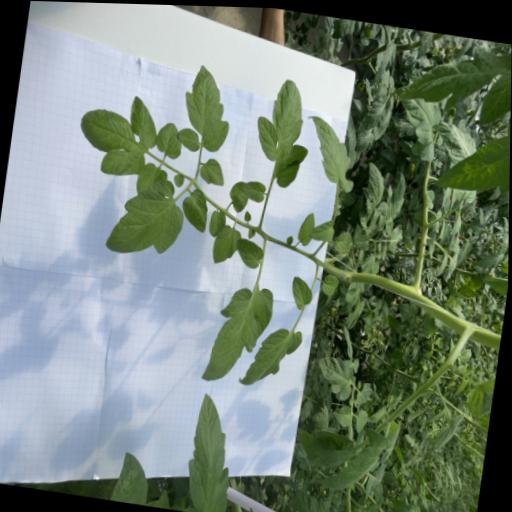Healthy: (392, 30, 512, 129), (201, 278, 276, 389), (73, 87, 162, 180), (248, 73, 317, 190), (432, 95, 511, 196), (105, 171, 189, 261), (182, 391, 242, 512), (173, 61, 236, 156), (312, 419, 391, 494), (298, 112, 362, 197), (385, 81, 444, 160), (238, 321, 303, 392), (427, 118, 478, 166), (312, 352, 356, 400), (291, 486, 363, 512), (361, 158, 387, 219), (178, 185, 211, 233), (369, 34, 397, 89), (210, 221, 243, 266), (384, 167, 408, 225), (340, 108, 362, 168), (356, 93, 387, 135), (135, 161, 169, 198), (154, 120, 184, 159), (364, 458, 388, 504), (233, 236, 265, 269), (289, 274, 315, 310), (471, 241, 505, 268), (332, 320, 357, 356), (197, 156, 227, 185), (307, 214, 337, 242), (227, 178, 251, 213), (315, 443, 351, 465), (337, 281, 359, 315), (441, 241, 460, 280), (297, 209, 317, 245), (374, 102, 393, 139), (347, 295, 366, 330), (239, 178, 266, 202), (355, 378, 374, 412), (292, 441, 315, 468), (207, 208, 227, 238), (394, 299, 419, 323), (331, 402, 354, 427), (354, 124, 374, 152), (387, 221, 404, 252), (333, 228, 353, 253), (368, 401, 388, 423), (435, 246, 449, 276), (321, 272, 339, 295), (351, 230, 371, 250), (449, 206, 463, 233), (355, 407, 370, 432), (456, 344, 473, 365), (380, 298, 391, 328), (336, 189, 356, 205), (321, 401, 332, 429), (424, 235, 436, 257), (423, 186, 435, 208), (301, 399, 313, 420), (432, 207, 442, 232), (356, 208, 369, 227), (408, 188, 418, 209), (451, 227, 460, 250), (400, 227, 413, 242), (361, 253, 373, 269), (356, 247, 364, 266), (352, 356, 360, 372), (439, 217, 446, 235), (381, 243, 388, 259), (414, 502, 423, 512), (365, 223, 372, 234), (376, 249, 383, 258)
